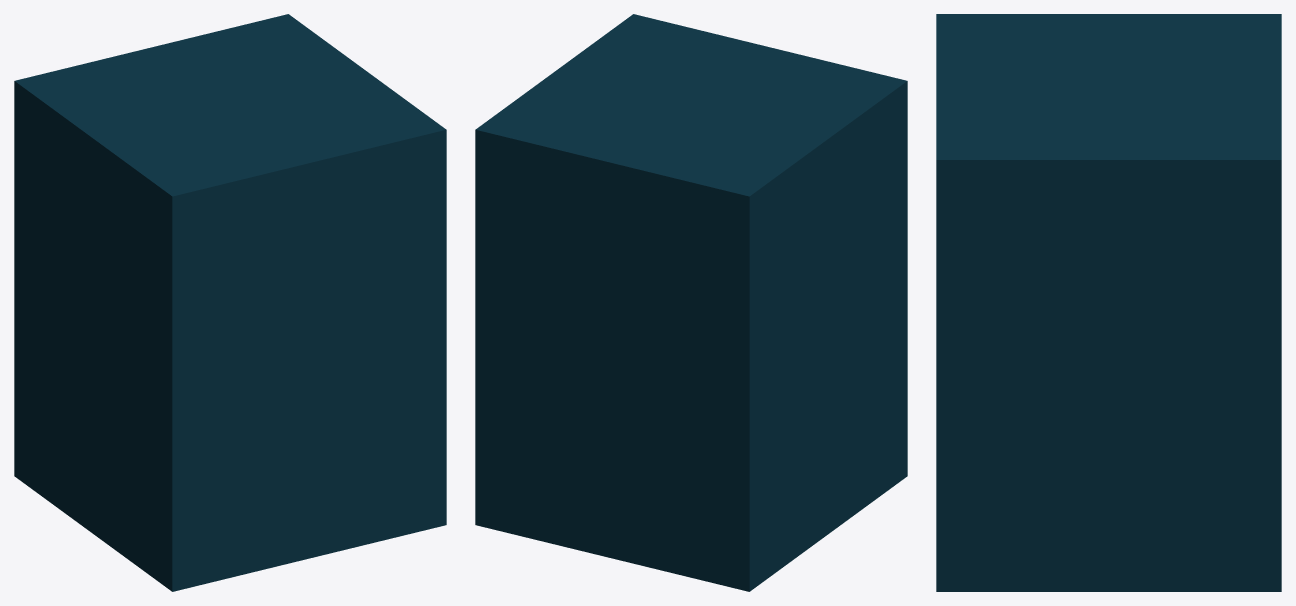
Rendered from Itr_Obj_Monitor_CRT_Neck_03.FBX.
3 views of the same model, side by side, from view 1: azimuth 30°, elevation 25°; view 2: azimuth 150°, elevation 25°; view 3: azimuth 270°, elevation 25° (orthographic). The views are drawn at different scales.
Visible parts, largest first — view 1: Itr_Obj_Monitor_CRT_Neck_03; view 2: Itr_Obj_Monitor_CRT_Neck_03; view 3: Itr_Obj_Monitor_CRT_Neck_03.
Part boxes in pixels (box(x1,y1,x2,y2)): Itr_Obj_Monitor_CRT_Neck_03: box(14, 14, 446, 591); Itr_Obj_Monitor_CRT_Neck_03: box(475, 14, 907, 591); Itr_Obj_Monitor_CRT_Neck_03: box(936, 14, 1281, 591).
Size of the model in its own units: 7.49 by 10.32 by 7.48.
